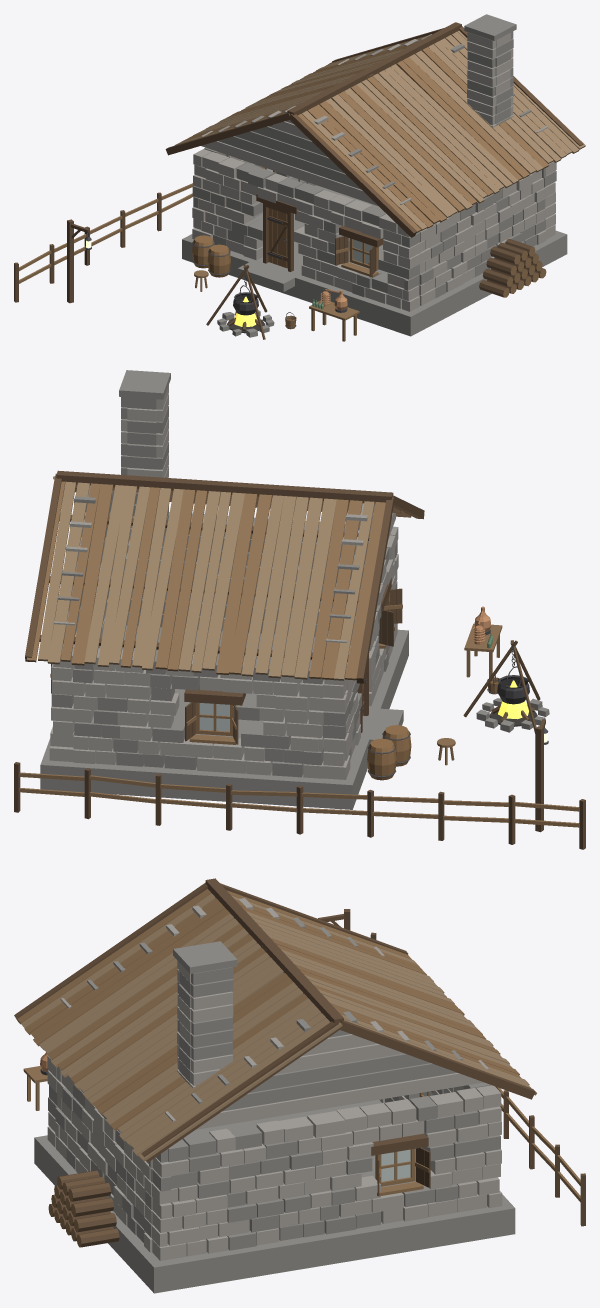
File: HedrigExterior.glb
The picture shows the model from 3 angles, top to bottom: view 1: azimuth 30°, elevation 25°; view 2: azimuth 150°, elevation 25°; view 3: azimuth 270°, elevation 25°; orthographic projection. The views are drawn at different scales.
Parts seen in each view (by area): view 1: HedrigTecho, HedrigParedes, HedrigBase, HedrigChimenea, HedrigLena, HedrigCerca, HedrigFogata, HedrigBarriles, HedrigVentanas, HedrigMesaExterior, HedrigPuerta, HedrigPuertaMarco (+1 smaller); view 2: HedrigTecho, HedrigParedes, HedrigBase, HedrigCerca, HedrigChimenea, HedrigFogata, HedrigVentanas, HedrigBarriles, HedrigMesaExterior, HedrigFarolPoste; view 3: HedrigParedes, HedrigTecho, HedrigBase, HedrigChimenea, HedrigLena, HedrigVentanas, HedrigCerca, HedrigMesaExterior.
Part boxes in pixels (box(x1,y1,x2,y2)): HedrigTecho: box(165, 22, 585, 237); HedrigParedes: box(192, 34, 556, 311); HedrigBase: box(182, 185, 567, 336); HedrigChimenea: box(464, 14, 516, 127); HedrigLena: box(479, 239, 546, 297); HedrigCerca: box(14, 183, 193, 302); HedrigFogata: box(206, 264, 274, 339); HedrigBarriles: box(192, 235, 230, 291); HedrigVentanas: box(261, 166, 378, 277); HedrigMesaExterior: box(309, 289, 359, 341); HedrigPuerta: box(267, 208, 287, 268); HedrigPuertaMarco: box(263, 203, 293, 271); HedrigTecho: box(25, 470, 424, 683); HedrigParedes: box(49, 485, 398, 779); HedrigBase: box(40, 625, 408, 809); HedrigCerca: box(14, 762, 585, 849); HedrigChimenea: box(119, 370, 170, 539); HedrigFogata: box(463, 640, 549, 733); HedrigVentanas: box(50, 588, 402, 744); HedrigBarriles: box(367, 725, 455, 780); HedrigMesaExterior: box(464, 606, 502, 677); HedrigFarolPoste: box(535, 719, 548, 832); HedrigParedes: box(47, 898, 502, 1260); HedrigTecho: box(14, 878, 536, 1162); HedrigBase: box(34, 1100, 515, 1293); HedrigChimenea: box(173, 941, 237, 1088); HedrigLena: box(48, 1170, 119, 1247); HedrigVentanas: box(375, 1091, 432, 1196); HedrigCerca: box(370, 932, 585, 1226); HedrigMesaExterior: box(23, 1052, 48, 1110).
Size of the model in its own units: 18.09 by 8.17 by 14.02.
